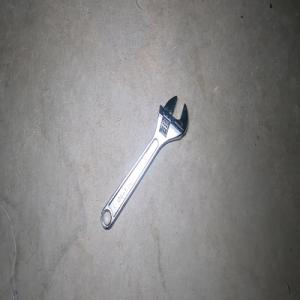Wrench: (100, 95, 188, 229)
